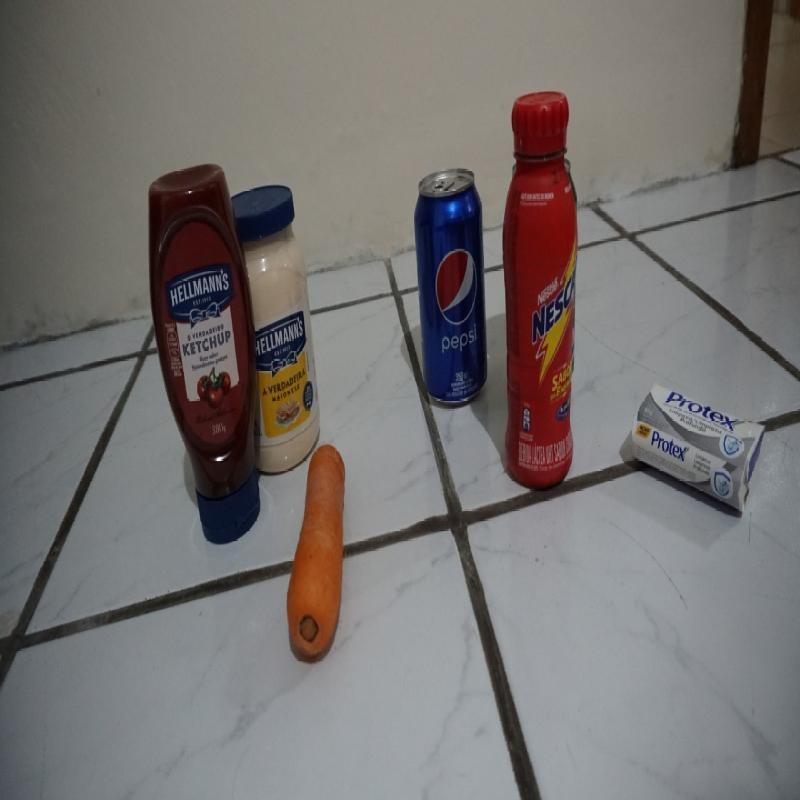Carrot: (296, 448, 345, 652)
Chocolate Milk: (506, 81, 576, 481)
Ketchup: (144, 169, 262, 549)
Mayonnaise: (251, 177, 320, 472)
Soap: (629, 384, 766, 523)
Soda can: (416, 171, 491, 404)
